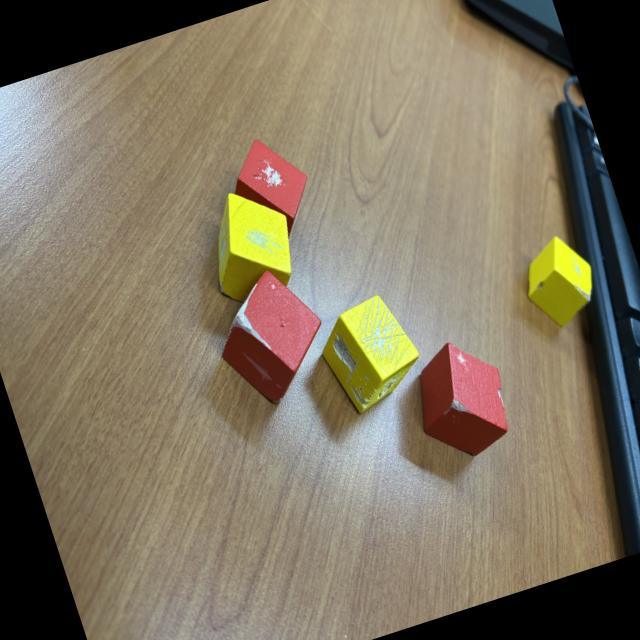broken: (203, 258, 341, 414), (401, 331, 521, 468), (192, 178, 310, 316), (312, 289, 432, 421), (214, 127, 324, 252), (512, 228, 607, 335)
